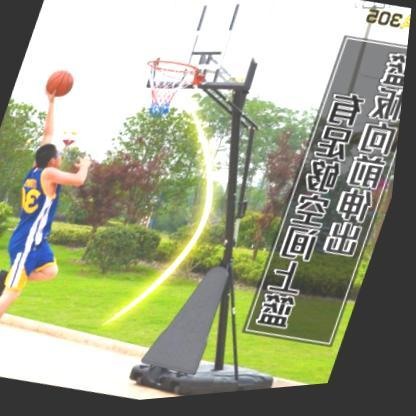basketball: (40, 65, 81, 103)
rim: (130, 55, 201, 129)
